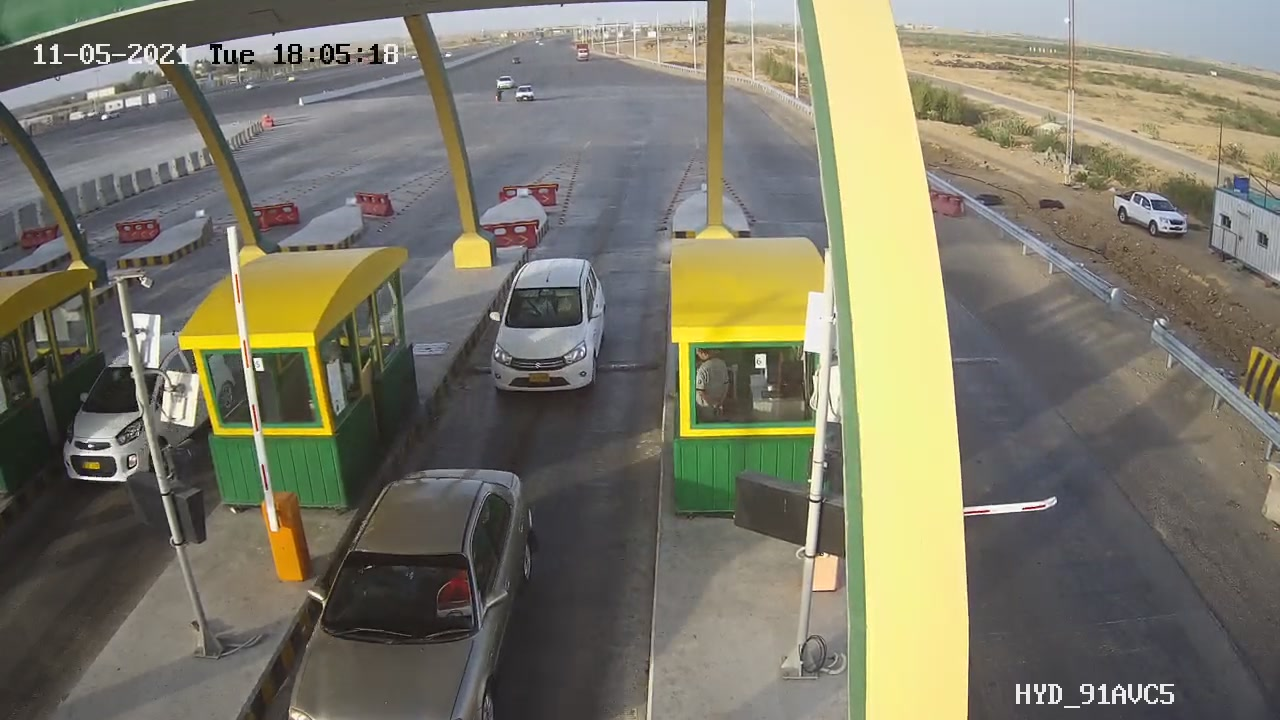F1: (486, 248, 624, 425)
